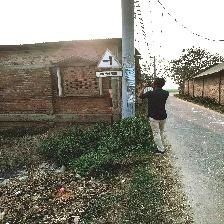Side-road-left: (96, 48, 123, 77)
